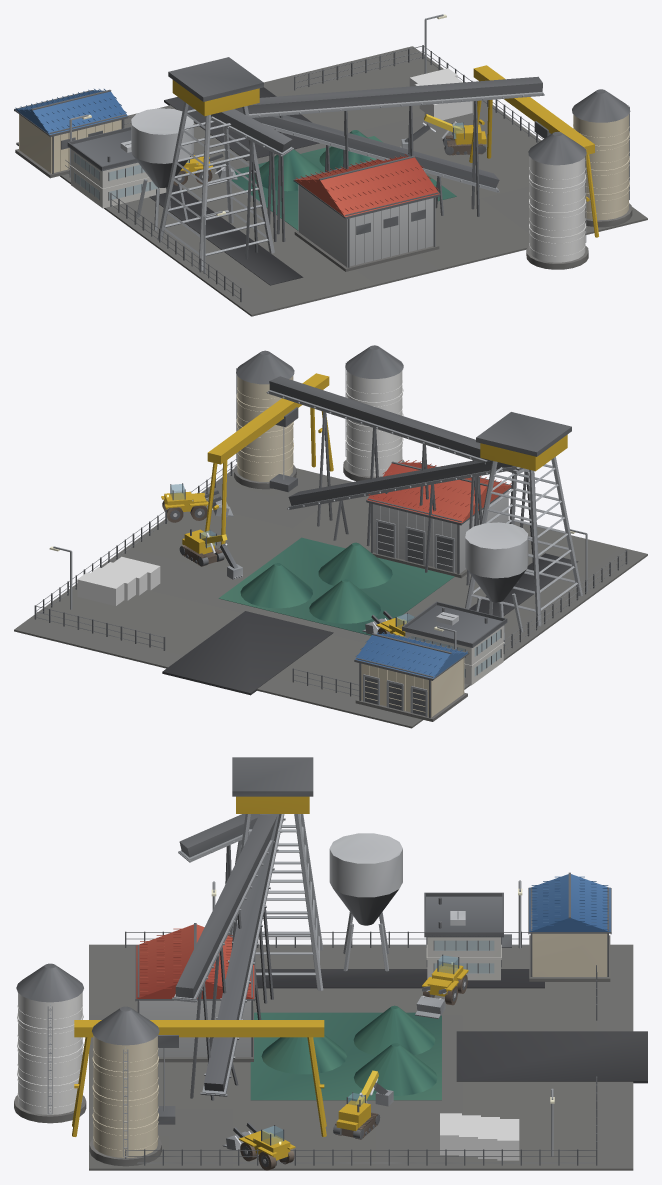
The model's file is Depot_P2.fbx.
3 renders of one model, top to bottom at view 1: azimuth 30°, elevation 25°; view 2: azimuth 150°, elevation 25°; view 3: azimuth 270°, elevation 25°, orthographic. The views are drawn at different scales.
Parts seen in each view (by area): view 1: Depot.Yard, Depot.Shed1, Depot.Tower, Depot.ConvB, Depot.Silo1, Depot.Silo0, Depot.Shed2, Depot.Office, Depot.ConvMain, Depot.Hopper, Depot.Gantry, Depot.ConvA (+6 smaller); view 2: Depot.Yard, Depot.Shed1, Depot.Tower, Depot.Shed2, Depot.ConvB, Depot.Silo1, Depot.Silo0, Depot.Office, Depot.ConvMain, Depot.Hopper, Depot.Gantry, Depot.Fence (+7 smaller); view 3: Depot.Yard, Depot.Silo0, Depot.Silo1, Depot.Tower, Depot.Shed2, Depot.Shed1, Depot.ConvB, Depot.Office, Depot.ConvMain, Depot.Hopper, Depot.Gantry, Depot.Fence (+8 smaller).
Part boxes in pixels (x1,y1,x2,y2): Depot.Yard: (16, 46, 647, 316); Depot.Shed1: (293, 154, 440, 271); Depot.Tower: (157, 57, 274, 270); Depot.ConvB: (235, 76, 544, 241); Depot.Silo1: (526, 132, 588, 269); Depot.Silo0: (572, 89, 632, 227); Depot.Shed2: (14, 89, 128, 178); Depot.Office: (67, 126, 166, 208); Depot.ConvMain: (252, 115, 499, 241); Depot.Hopper: (131, 108, 193, 230); Depot.Gantry: (469, 65, 598, 237); Depot.ConvA: (211, 109, 293, 259); Depot.Yard: (14, 468, 647, 728); Depot.Shed1: (366, 460, 511, 578); Depot.Tower: (465, 412, 582, 626); Depot.Shed2: (354, 632, 469, 721); Depot.ConvB: (266, 376, 524, 585); Depot.Silo1: (343, 345, 404, 481); Depot.Silo0: (234, 350, 296, 489); Depot.Office: (402, 601, 507, 685); Depot.ConvMain: (287, 460, 520, 572); Depot.Hopper: (465, 522, 528, 644); Depot.Gantry: (205, 373, 333, 549); Depot.Fence: (34, 458, 627, 696); Depot.Yard: (89, 944, 647, 1170); Depot.Silo0: (89, 1006, 161, 1166); Depot.Silo1: (14, 963, 86, 1123); Depot.Tower: (228, 757, 323, 990); Depot.Shed2: (528, 872, 611, 981); Depot.Shed1: (135, 923, 255, 1062); Depot.ConvB: (172, 814, 285, 1100); Depot.Office: (424, 892, 511, 980); Depot.ConvMain: (200, 814, 284, 1096); Depot.Hopper: (329, 833, 402, 971); Depot.Gantry: (72, 1020, 326, 1136); Depot.Fence: (125, 931, 597, 1165).
Size of the model in its own units: 7593 by 2966 by 8620.
